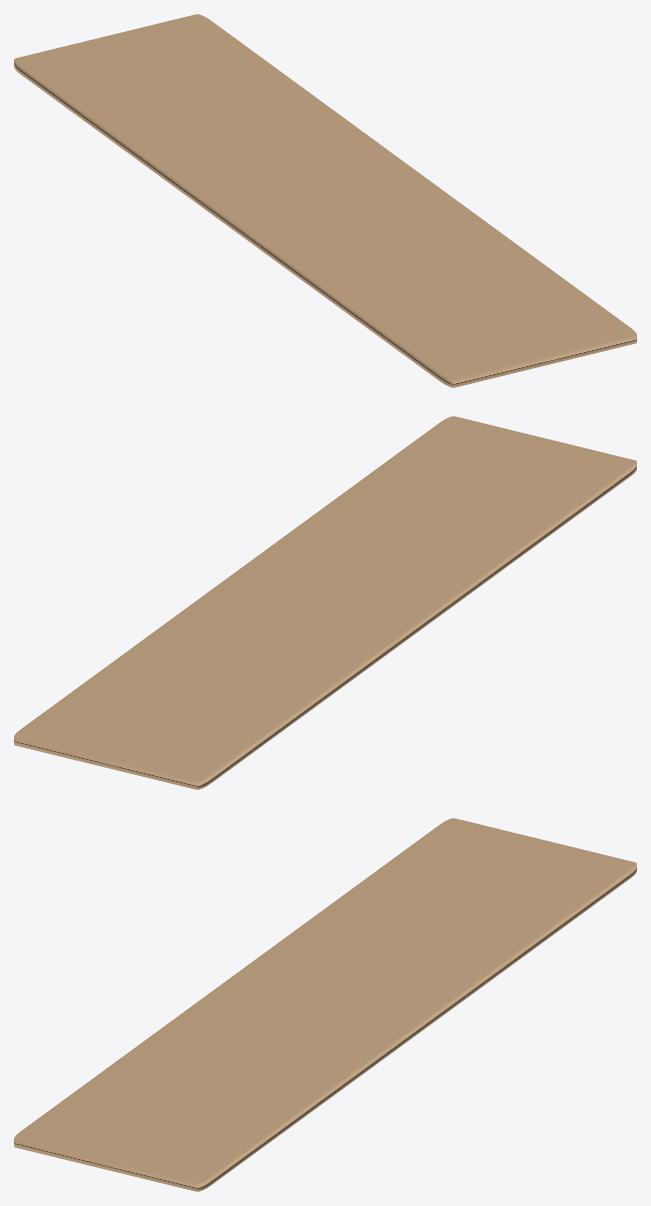
File: product.glb
3 renders of one model, top to bottom at view 1: azimuth 30°, elevation 25°; view 2: azimuth 150°, elevation 25°; view 3: azimuth 330°, elevation 25°, orthographic.
Parts seen in each view (by area): view 1: Cube; view 2: Cube; view 3: Cube.
Boxes of the visible parts, x1=… form: Cube: x1=14, y1=14, x2=636, y2=387; Cube: x1=14, y1=416, x2=636, y2=789; Cube: x1=14, y1=818, x2=636, y2=1191.
Bounding box in the file's own units: 0.05 × 0.002 × 0.2.
